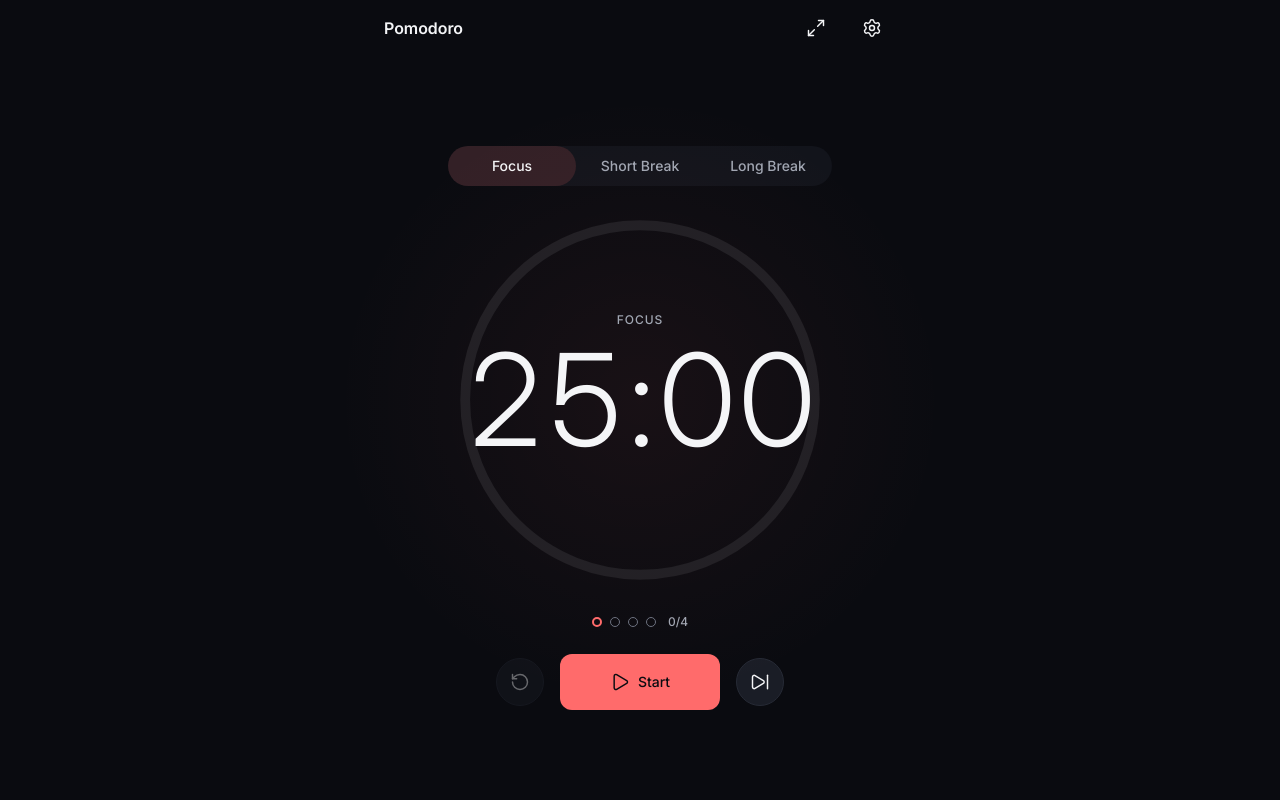
Test: Focus mode (POMO-AC17, POMO-E7, POMO-AC24) › overlay fallback (no Fullscreen API) › Exit button closes it and returns focus to Enter focus mode
This screenshot has width=1280, height=800.
Click the button named "Enter focus mode" at (816, 28), box [792,4,840,52]
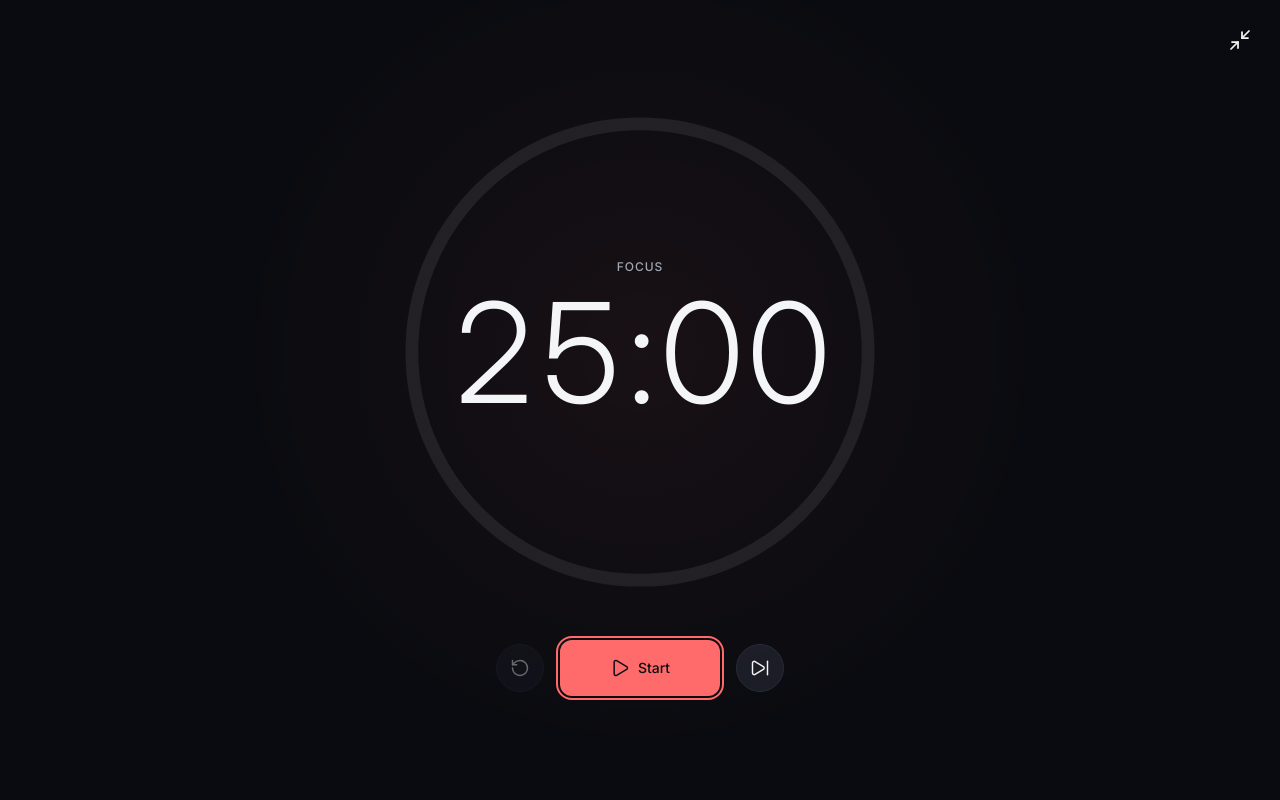
Click the button named "Exit focus mode" at (1240, 40), box [1216,16,1264,64]
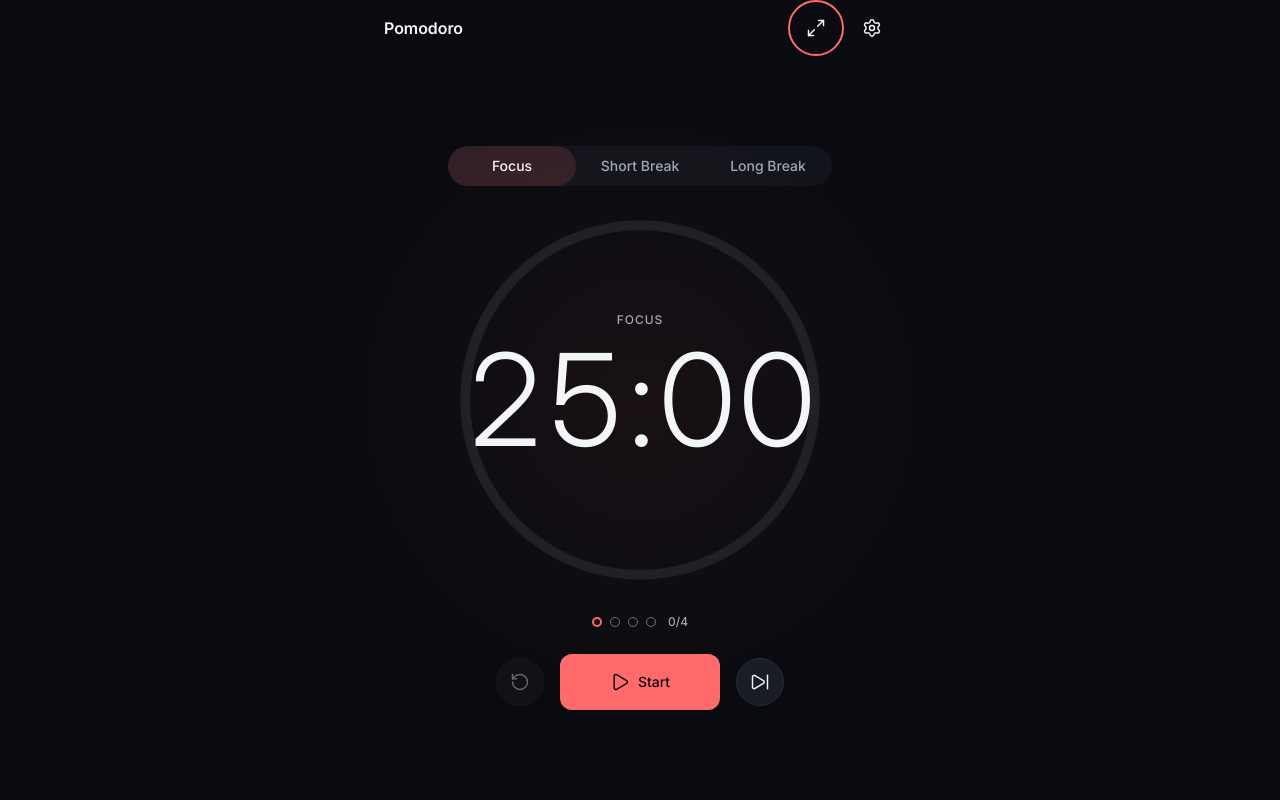
Result: the dialog is gone
